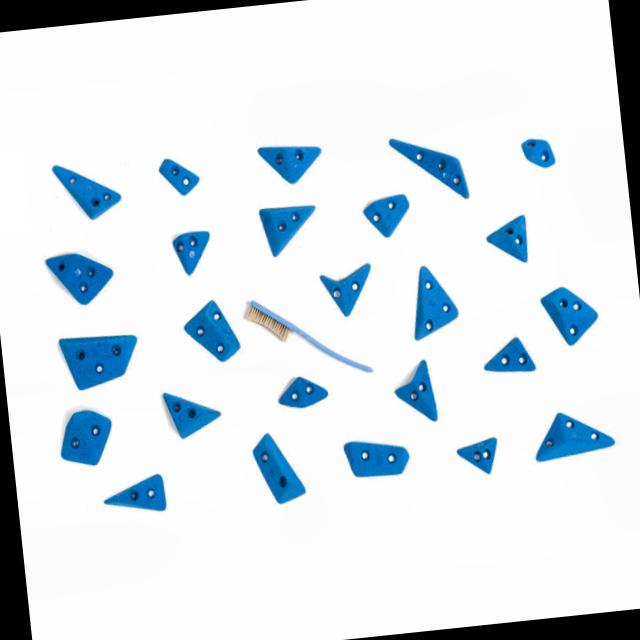Hold: (380, 121, 473, 206), (307, 258, 388, 336), (242, 425, 312, 515), (180, 291, 260, 369), (52, 328, 146, 393), (96, 469, 186, 534), (45, 150, 124, 224), (402, 252, 461, 343), (148, 378, 233, 440), (526, 403, 620, 459), (50, 406, 124, 476), (534, 279, 604, 348), (384, 356, 448, 430), (336, 432, 416, 488), (250, 200, 322, 262), (47, 250, 121, 308), (250, 138, 328, 184), (147, 152, 210, 205), (476, 207, 532, 266), (474, 338, 544, 380), (358, 190, 414, 240), (269, 370, 329, 414), (168, 222, 214, 276), (452, 437, 501, 483), (515, 130, 556, 172)
